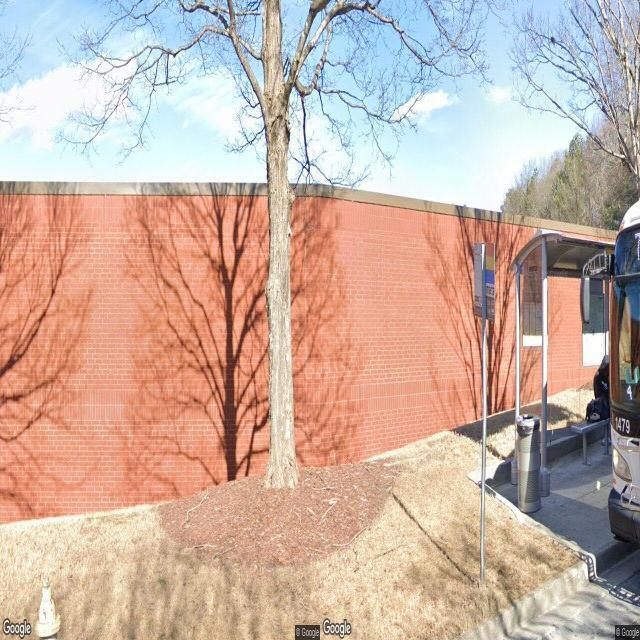seating: (571, 416, 611, 466)
shelter: (512, 221, 640, 508)
trash_can: (516, 411, 540, 514)
